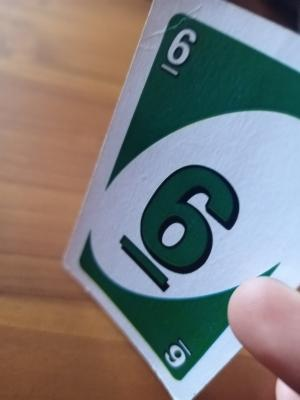green: (153, 65, 233, 349)
num_6: (165, 23, 201, 78)
